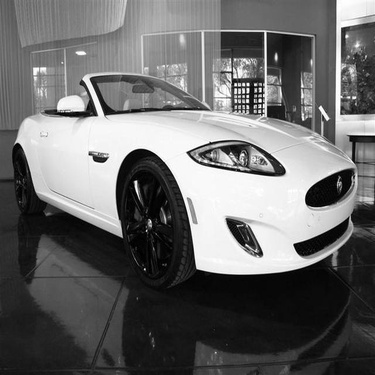car: (3, 65, 361, 279)
